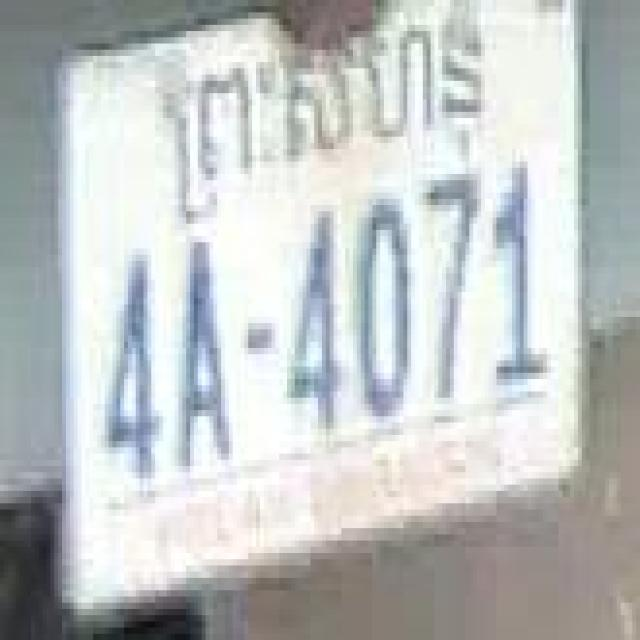Preah_Sihanouk: (163, 6, 486, 222)
